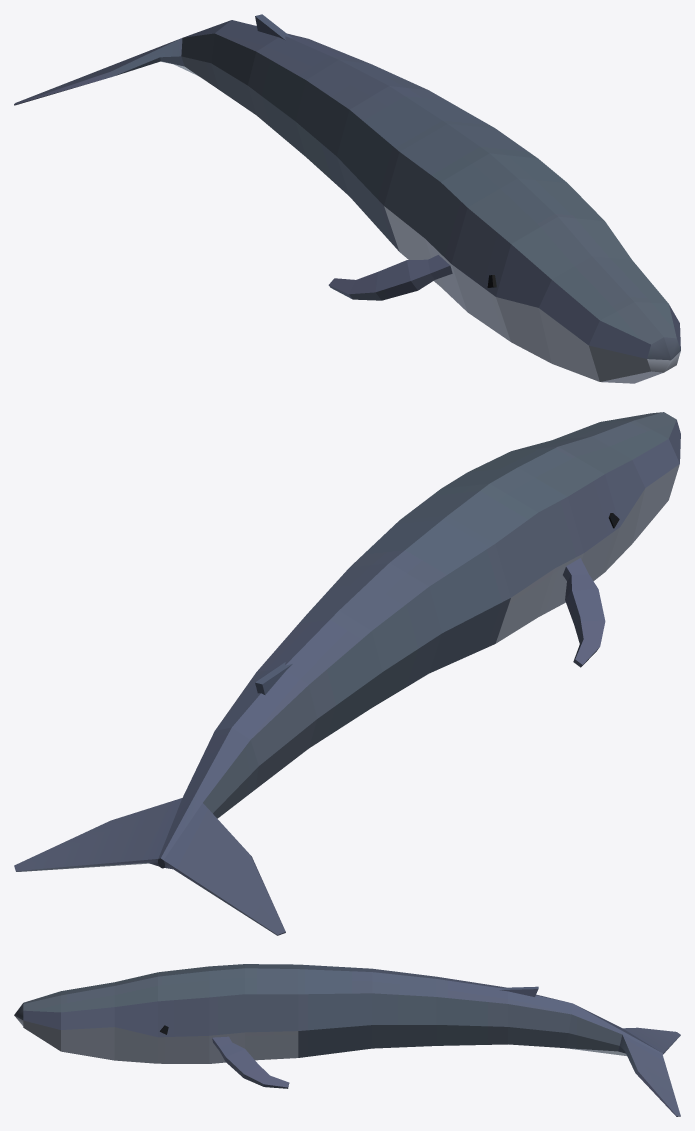
Rendered from animals-whale-209.glb.
3 renders of one model, top to bottom at view 1: azimuth 30°, elevation 25°; view 2: azimuth 150°, elevation 25°; view 3: azimuth 270°, elevation 25°, orthographic. The views are drawn at different scales.
Visible parts, largest first — view 1: Geo_Whale; view 2: Geo_Whale; view 3: Geo_Whale.
Boxes of the visible parts, x1=… form: Geo_Whale: x1=14, y1=14, x2=680, y2=383; Geo_Whale: x1=14, y1=412, x2=680, y2=935; Geo_Whale: x1=14, y1=964, x2=680, y2=1116.
Bounding box in the file's own units: 111 × 66.39 × 373.
1 material, 1 textured.
